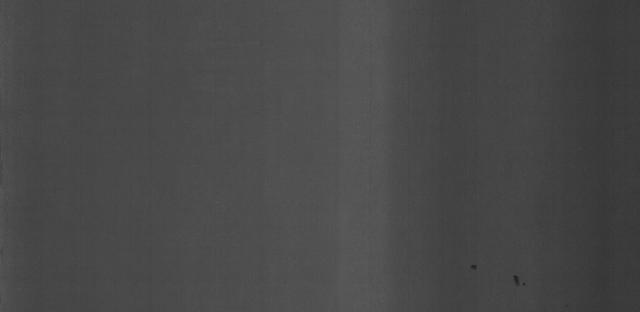oil_spot: (455, 258, 533, 298)
